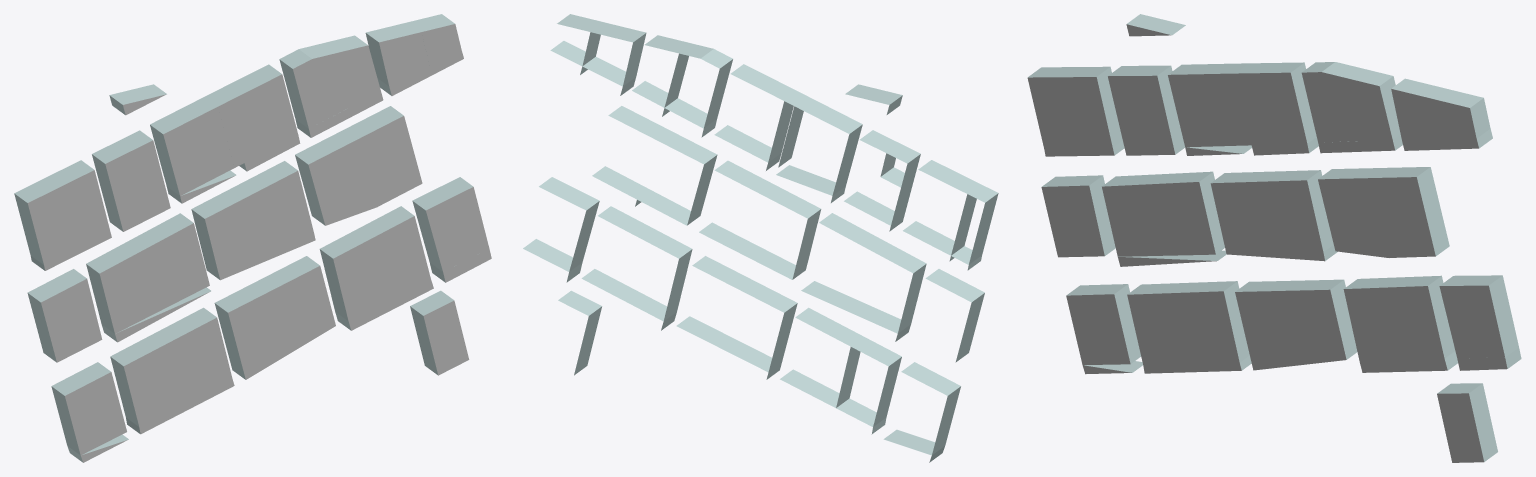
The picture shows the model from 3 angles, left to right: view 1: azimuth 30°, elevation 25°; view 2: azimuth 150°, elevation 25°; view 3: azimuth 330°, elevation 25°; orthographic projection. The views are drawn at different scales.
Parts seen in each view (by area): view 1: 0_2_1_2_3_0_0_1_2; view 2: 0_2_1_2_3_0_0_1_2; view 3: 0_2_1_2_3_0_0_1_2.
Part boxes in pixels (x1,y1,x2,y2): 0_2_1_2_3_0_0_1_2: [14, 14, 491, 462]; 0_2_1_2_3_0_0_1_2: [523, 14, 998, 462]; 0_2_1_2_3_0_0_1_2: [1027, 14, 1521, 462].
Bounding box in the file's own units: 59.6 × 42.71 × 3.06.
